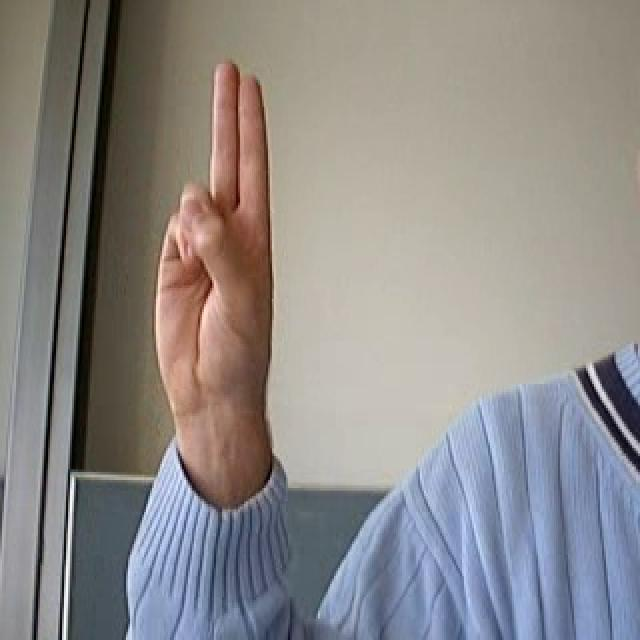U: (98, 50, 315, 456)
